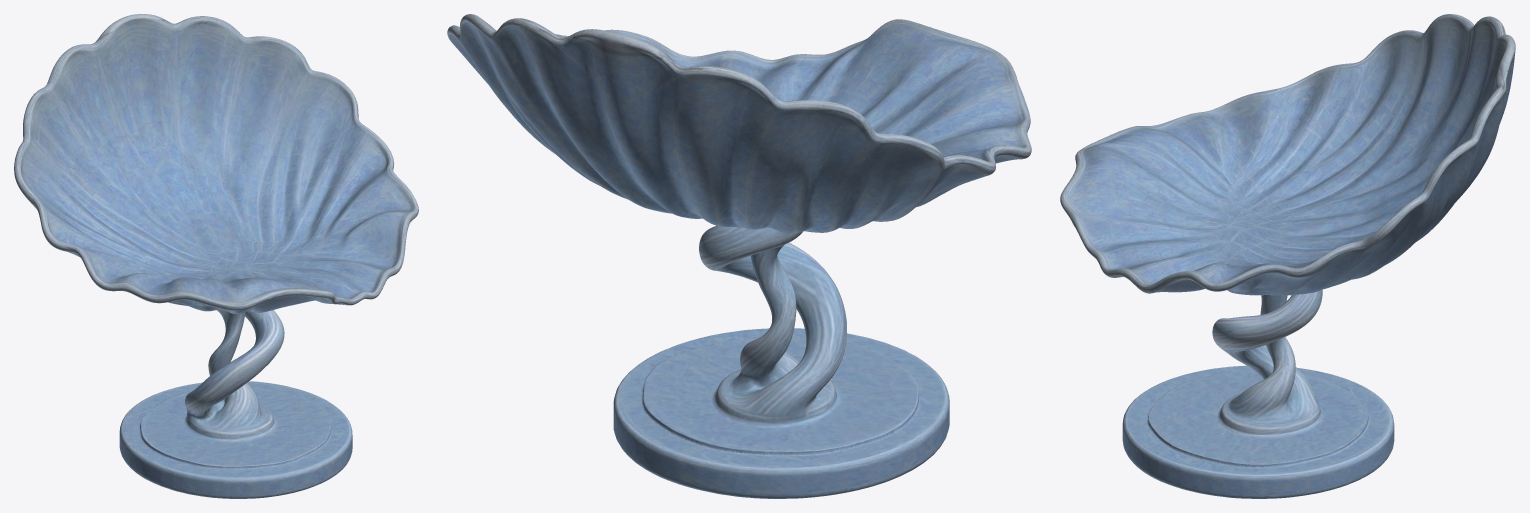
Rendered from cowrie-small.glb.
The picture shows the model from 3 angles, left to right: view 1: azimuth 30°, elevation 25°; view 2: azimuth 150°, elevation 25°; view 3: azimuth 270°, elevation 25°; orthographic projection. The views are drawn at different scales.
Size of the model in its own units: 1.9 by 1.86 by 1.89.
1 material, 1 textured.
